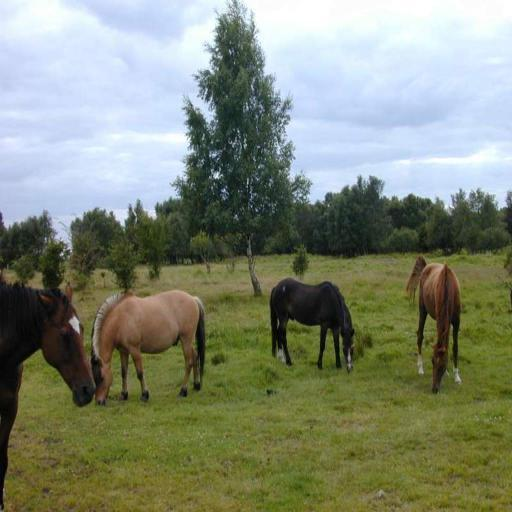horse: (0, 277, 96, 511), (94, 292, 206, 404), (268, 274, 356, 372), (404, 250, 462, 394)
